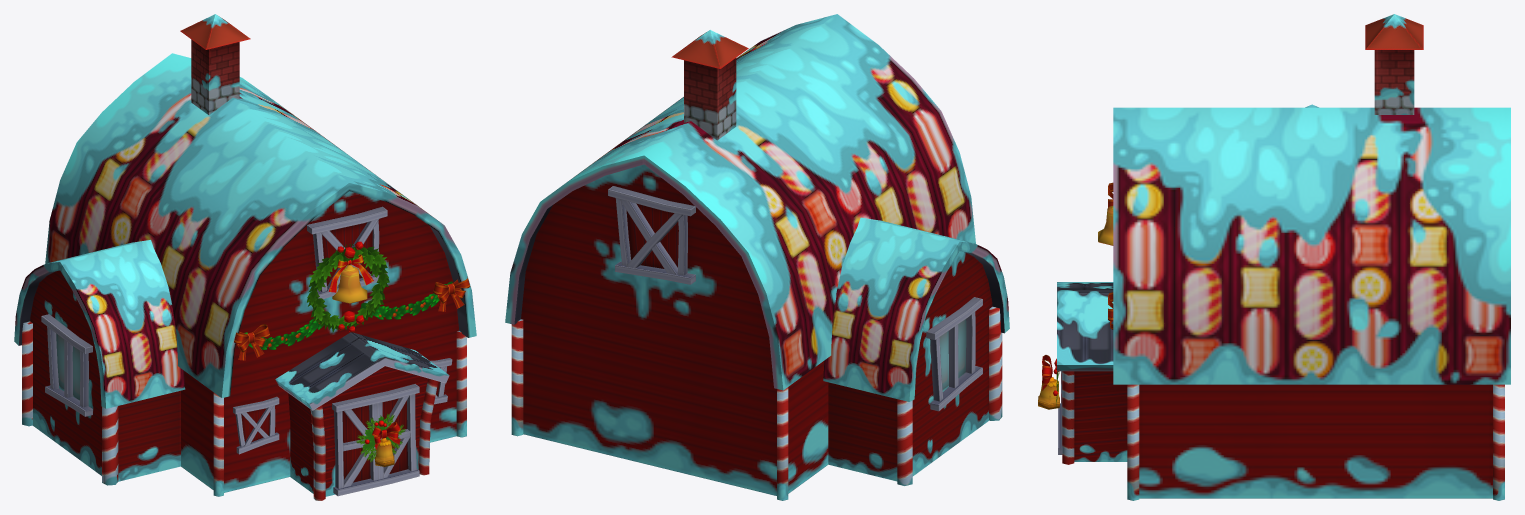
Rendered from Barn_01.FBX.
The picture shows the model from 3 angles, left to right: view 1: azimuth 30°, elevation 25°; view 2: azimuth 150°, elevation 25°; view 3: azimuth 270°, elevation 25°; orthographic projection. The views are drawn at different scales.
Visible parts, largest first — view 1: Barn, Bell731, Bell737; view 2: Barn; view 3: Barn, Bell737, Bell731.
Boxes of the visible parts, x1,y1,x2,y2 form: Barn: (14,14,476,500); Bell731: (234,241,470,360); Bell737: (356,413,405,466); Barn: (505,14,1009,500); Barn: (1057,14,1510,500); Bell737: (1038,355,1059,409); Bell731: (1098,182,1113,329).
Size of the model in its own units: 278 by 298 by 309.
